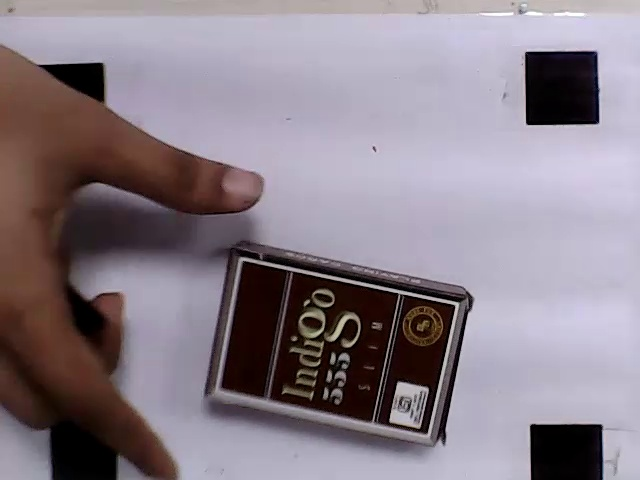BEX: (217, 259, 458, 437)
